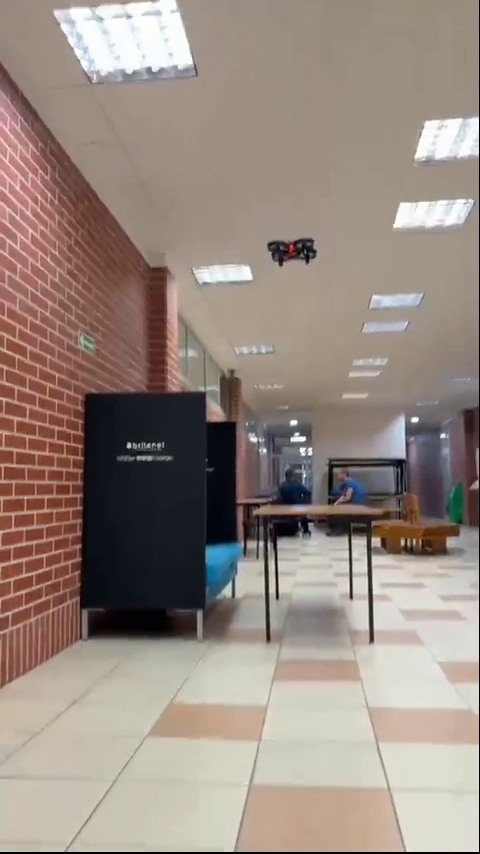drone: (267, 237, 321, 267)
no vest: (331, 467, 361, 508), (279, 469, 310, 505)
